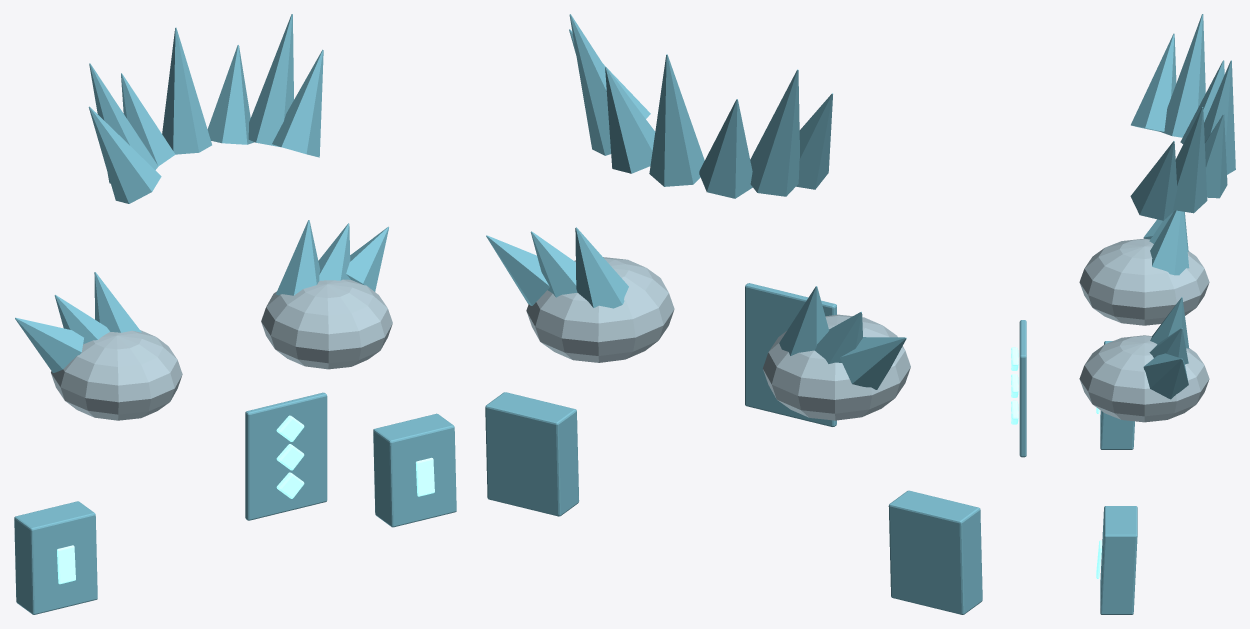
File: archive-monarch-v1.glb
3 views of the same model, side by side, from view 1: azimuth 30°, elevation 25°; view 2: azimuth 150°, elevation 25°; view 3: azimuth 270°, elevation 25° (orthographic). The views are drawn at different scales.
Visible parts, largest first — view 1: Ice mantle.001, Ice mantle, Archive tablet, Frozen tome cover, Frozen tome cover.001, Frozen crown.003, Frozen crown.005, Frozen crown, Frozen crown.006, Frozen crown.004, Shoulder ice.002, Frozen crown.002 (+8 smaller); view 2: Frozen tome cover.001, Frozen tome cover, Ice mantle.001, Ice mantle, Archive tablet, Frozen crown.003, Frozen crown.001, Frozen crown.004, Frozen crown.002, Frozen crown.005, Shoulder ice.003, Frozen crown (+5 smaller); view 3: Ice mantle, Ice mantle.001, Frozen tome cover.001, Frozen crown.001, Frozen crown.005, Frozen crown.006, Frozen crown, Shoulder ice, Frozen crown.003, Shoulder ice.005, Frozen crown.004, Frozen tome cover (+4 smaller).
Boxes of the visible parts, <box> form: Ice mantle.001: <box>261,279,392,369</box>; Ice mantle: <box>51,330,182,420</box>; Archive tablet: <box>245,392,327,520</box>; Frozen tome cover: <box>14,501,97,614</box>; Frozen tome cover.001: <box>373,413,456,527</box>; Frozen crown.003: <box>162,27,211,154</box>; Frozen crown.005: <box>248,14,293,147</box>; Frozen crown: <box>88,106,161,203</box>; Frozen crown.006: <box>272,49,323,157</box>; Frozen crown.004: <box>207,45,254,144</box>; Shoulder ice.002: <box>15,317,83,372</box>; Frozen crown.002: <box>121,73,175,166</box>; Frozen tome cover.001: <box>485,392,579,516</box>; Frozen tome cover: <box>888,490,982,614</box>; Ice mantle.001: <box>526,257,674,362</box>; Ice mantle: <box>763,314,910,420</box>; Archive tablet: <box>745,283,836,426</box>; Frozen crown.003: <box>649,54,704,186</box>; Frozen crown.001: <box>750,69,799,196</box>; Frozen crown.004: <box>605,67,655,173</box>; Frozen crown.002: <box>699,99,752,198</box>; Frozen crown.005: <box>569,14,610,155</box>; Shoulder ice.003: <box>575,227,628,308</box>; Frozen crown: <box>796,93,832,189</box>; Ice mantle: <box>1079,238,1209,325</box>; Ice mantle.001: <box>1079,335,1209,422</box>; Frozen tome cover.001: <box>1100,506,1137,614</box>; Frozen crown.001: <box>1159,14,1205,137</box>; Frozen crown.005: <box>1173,107,1207,213</box>; Frozen crown.006: <box>1130,141,1177,220</box>; Frozen crown: <box>1131,33,1176,131</box>; Shoulder ice: <box>1150,210,1189,275</box>; Frozen crown.003: <box>1204,60,1235,174</box>; Shoulder ice.005: <box>1143,353,1188,399</box>; Frozen crown.004: <box>1205,114,1227,198</box>; Frozen tome cover: <box>1100,341,1134,449</box>.
Bounding box in the file's own units: 2.34 × 2.56 × 1.14.
